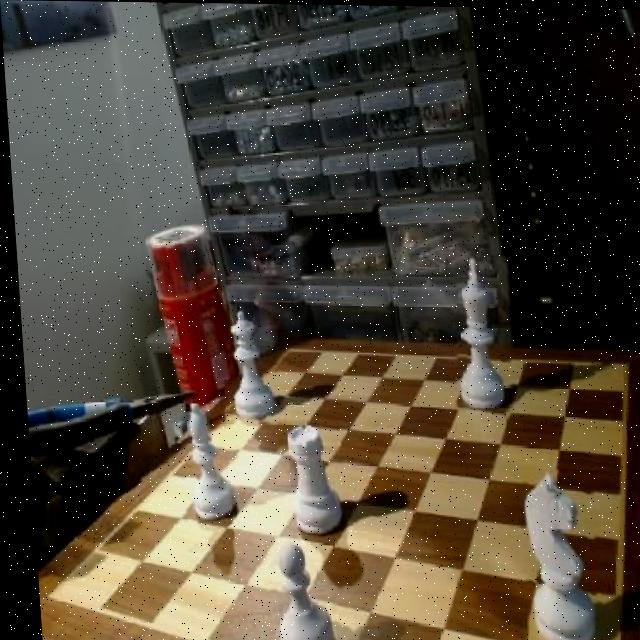black-rook: (172, 390, 234, 528)
white-bishop: (445, 251, 514, 414)
white-king: (512, 464, 594, 640)
white-knight: (260, 537, 332, 640)
white-pawn: (214, 305, 278, 426)
white-queen: (277, 418, 341, 538)
